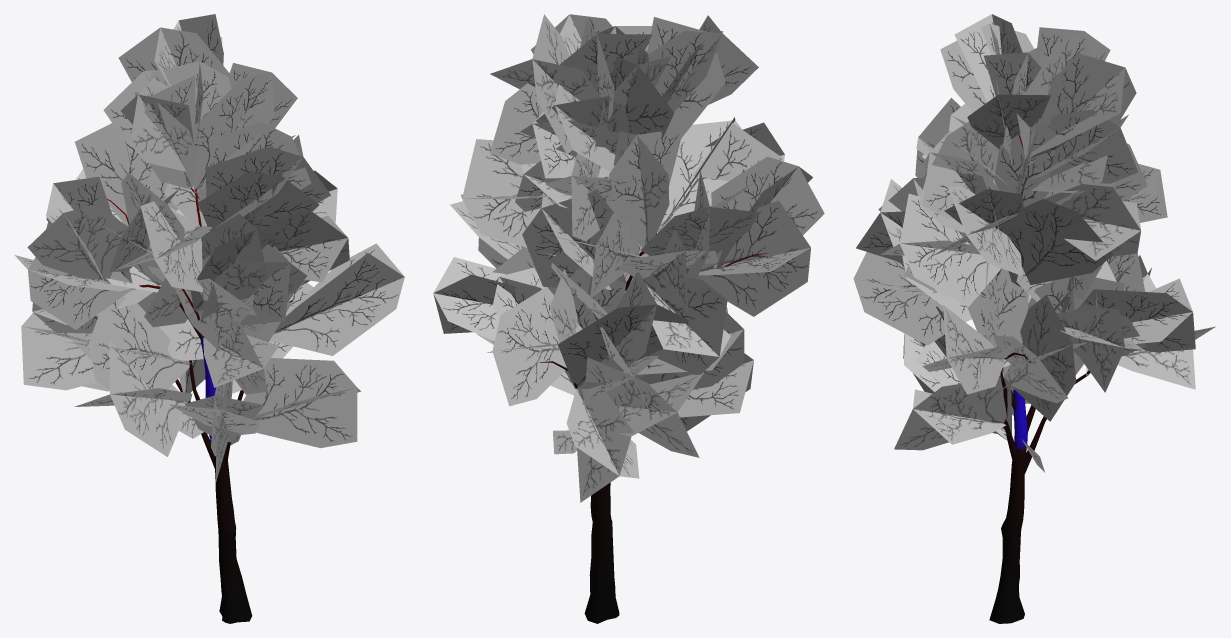
File: Tree_C_04.FBX
3 views of the same model, side by side, from view 1: azimuth 30°, elevation 25°; view 2: azimuth 150°, elevation 25°; view 3: azimuth 270°, elevation 25° (orthographic). The views are drawn at different scales.
Visible parts, largest first — view 1: Tree_C_04_LOD0; view 2: Tree_C_04_LOD0; view 3: Tree_C_04_LOD0.
Boxes of the visible parts, bbox=[...] form: Tree_C_04_LOD0: bbox=[14, 14, 404, 623]; Tree_C_04_LOD0: bbox=[433, 14, 824, 623]; Tree_C_04_LOD0: bbox=[853, 14, 1215, 623].
Size of what is drawn, in the model's own units: 1078 by 1703 by 980.
